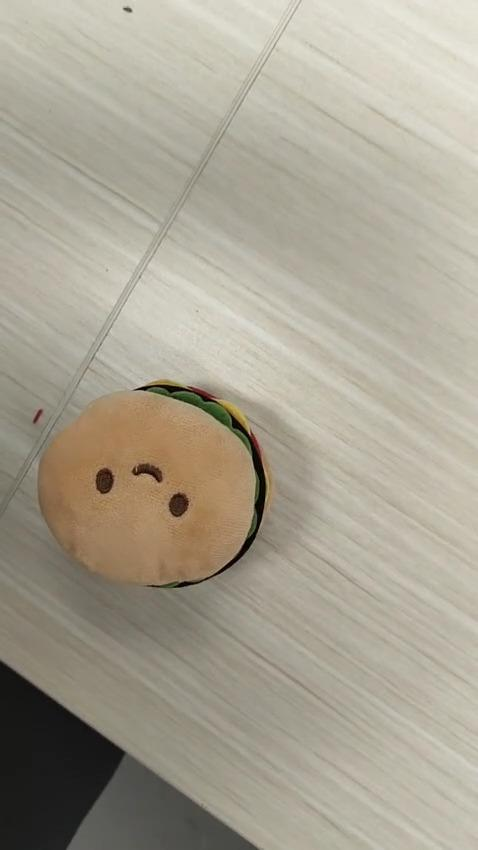hamburger: (39, 378, 276, 589)
